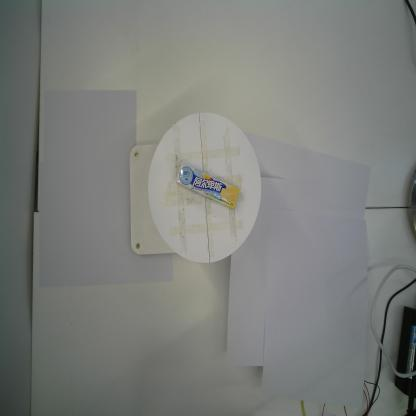Candy: (175, 162, 240, 210)
